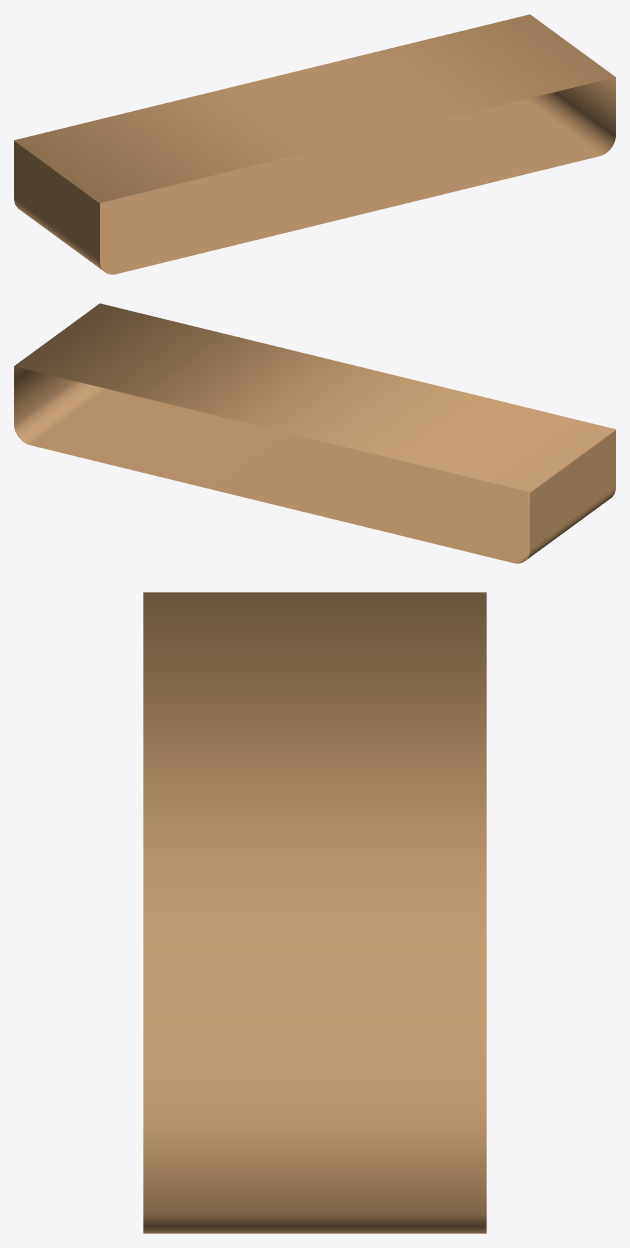
File: 7_bd7cff77.glb
3 views of the same model, one above another, from view 1: azimuth 30°, elevation 25°; view 2: azimuth 150°, elevation 25°; view 3: azimuth 270°, elevation 25° (orthographic). The views are drawn at different scales.
Parts seen in each view (by area): view 1: Curve; view 2: Curve; view 3: Curve.
Boxes of the visible parts, x1,y1,x2,y2 form: Curve: (14,14,615,274); Curve: (14,303,615,563); Curve: (143,592,486,1233).
Size of the model in its own units: 0.2775 by 0.0386 by 0.08.
